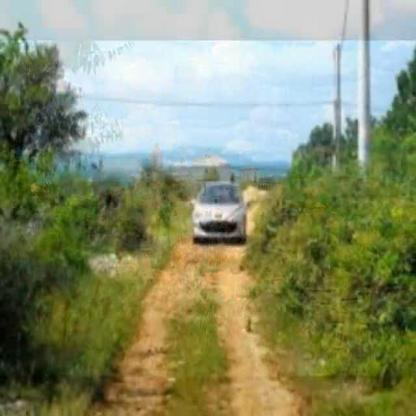other: (153, 226, 273, 314)
